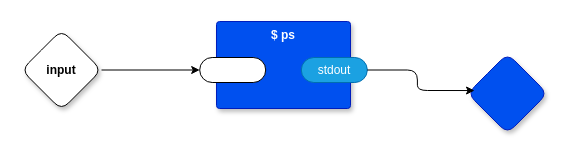
Image size: 571x158. Some labels were removed from this diagram. The shapes that lost their labels are listed below. From the top down, each one's centre as x and y in pixels, then its label:
At [232,69]: "stdin".
At [508,94]: "ps".
